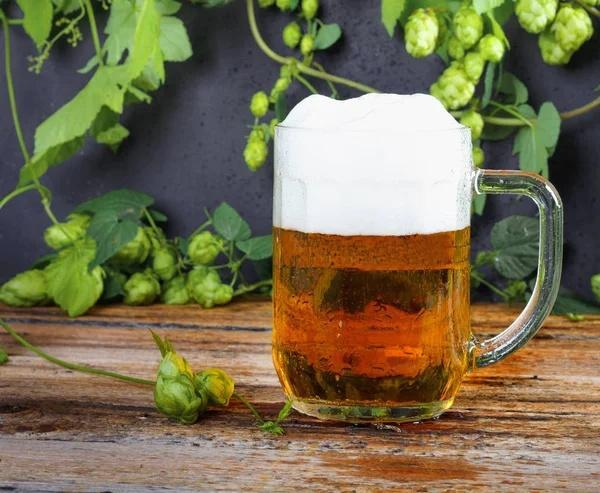glass-mug: (264, 117, 568, 429)
